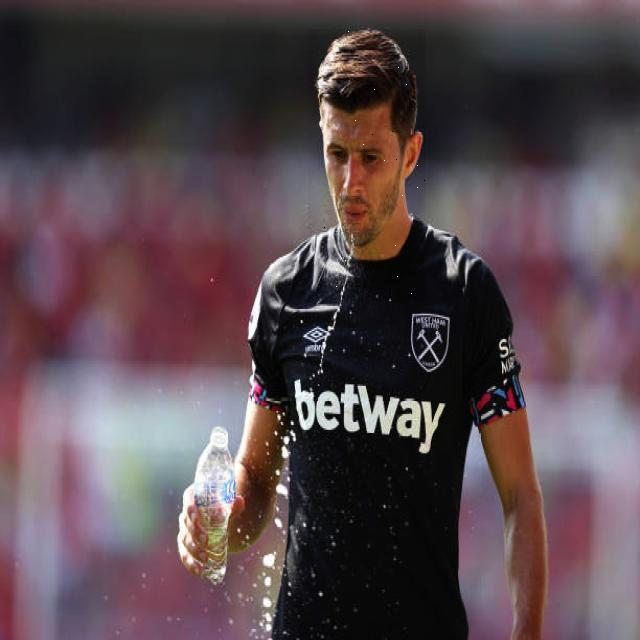Spitting: (308, 29, 425, 302)
